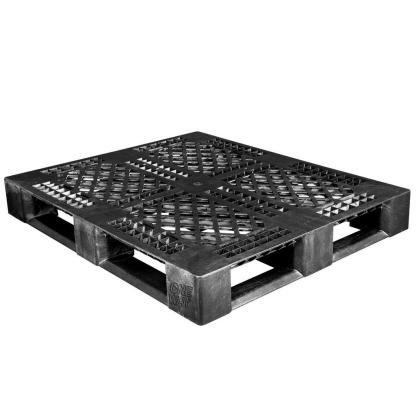BoxFace: (0, 173, 411, 327)
